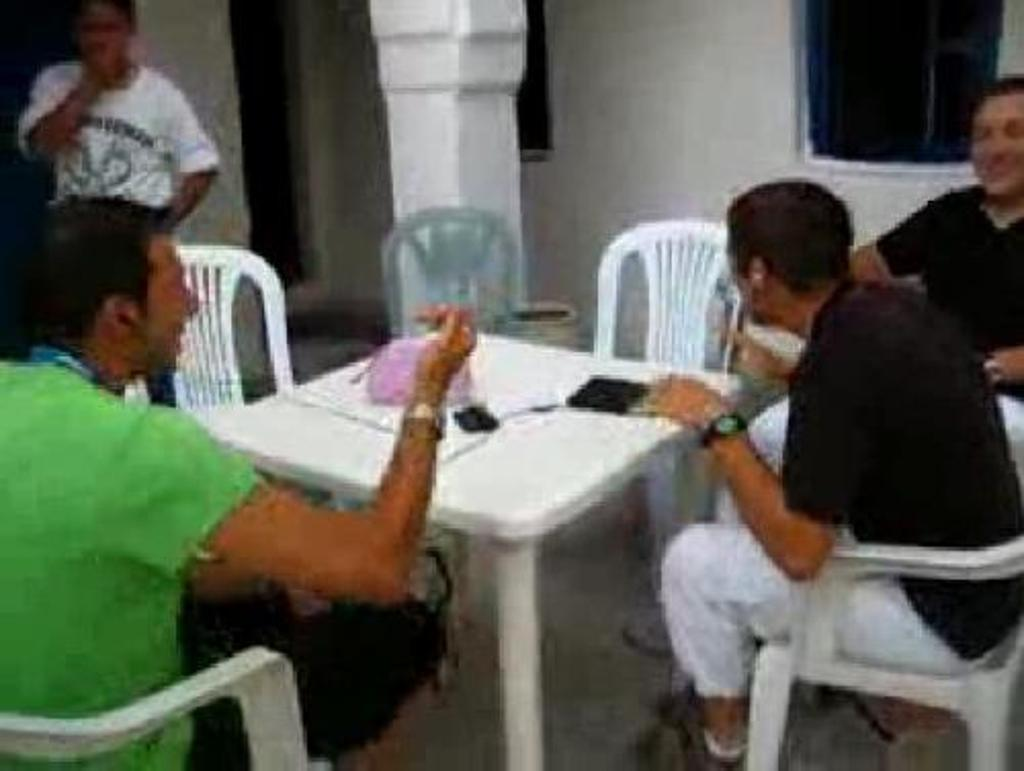face: (124, 243, 195, 370), (971, 99, 1024, 195), (76, 6, 126, 72)
